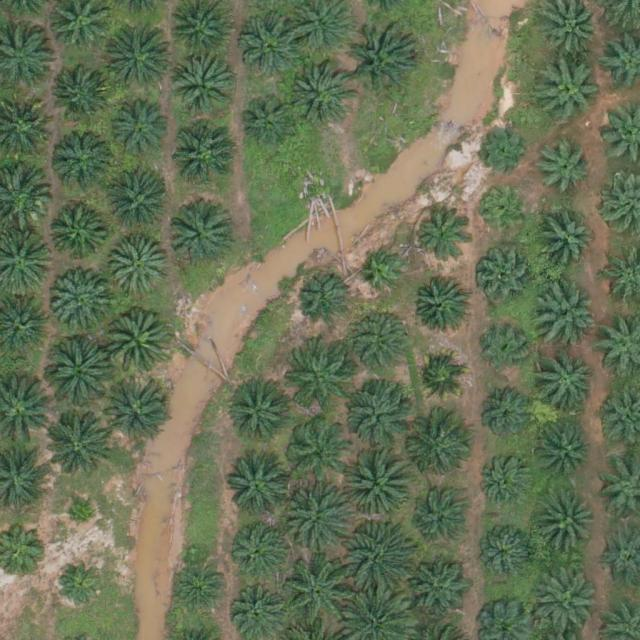Healthy: (344, 447, 415, 518), (40, 411, 111, 482), (345, 25, 416, 96), (533, 566, 603, 637), (405, 412, 475, 483), (345, 521, 415, 592), (345, 375, 415, 446), (280, 485, 351, 555), (285, 556, 355, 627), (101, 375, 171, 446), (42, 338, 113, 408), (105, 22, 175, 93), (102, 308, 172, 378), (167, 206, 230, 269), (109, 237, 172, 300), (45, 203, 108, 266), (532, 137, 595, 200), (169, 55, 232, 118), (538, 284, 600, 347), (537, 349, 599, 412), (407, 561, 469, 624), (283, 349, 345, 412), (287, 419, 349, 482), (228, 515, 290, 578), (228, 458, 290, 521), (232, 379, 294, 442), (108, 175, 170, 238), (50, 270, 112, 333), (289, 64, 351, 127), (242, 12, 304, 75), (536, 212, 598, 274), (539, 495, 601, 557), (475, 523, 537, 585), (350, 308, 412, 370), (537, 62, 599, 124), (173, 124, 235, 186), (108, 98, 170, 160), (53, 126, 115, 188), (51, 61, 113, 123), (538, 422, 593, 477), (476, 185, 531, 240), (477, 248, 532, 303), (479, 321, 534, 376), (479, 391, 534, 446), (479, 457, 534, 512), (413, 277, 468, 332), (54, 556, 109, 611), (413, 351, 468, 406), (297, 271, 352, 326), (477, 123, 532, 178), (242, 94, 297, 149), (416, 211, 470, 266), (412, 489, 466, 544), (171, 558, 225, 613)
Small: (361, 250, 408, 297), (66, 503, 97, 534)
